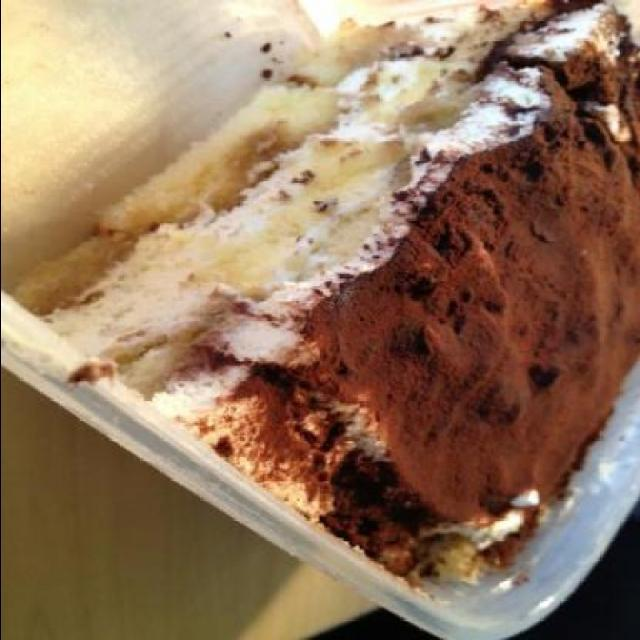Tiramisu: (102, 28, 626, 472)
